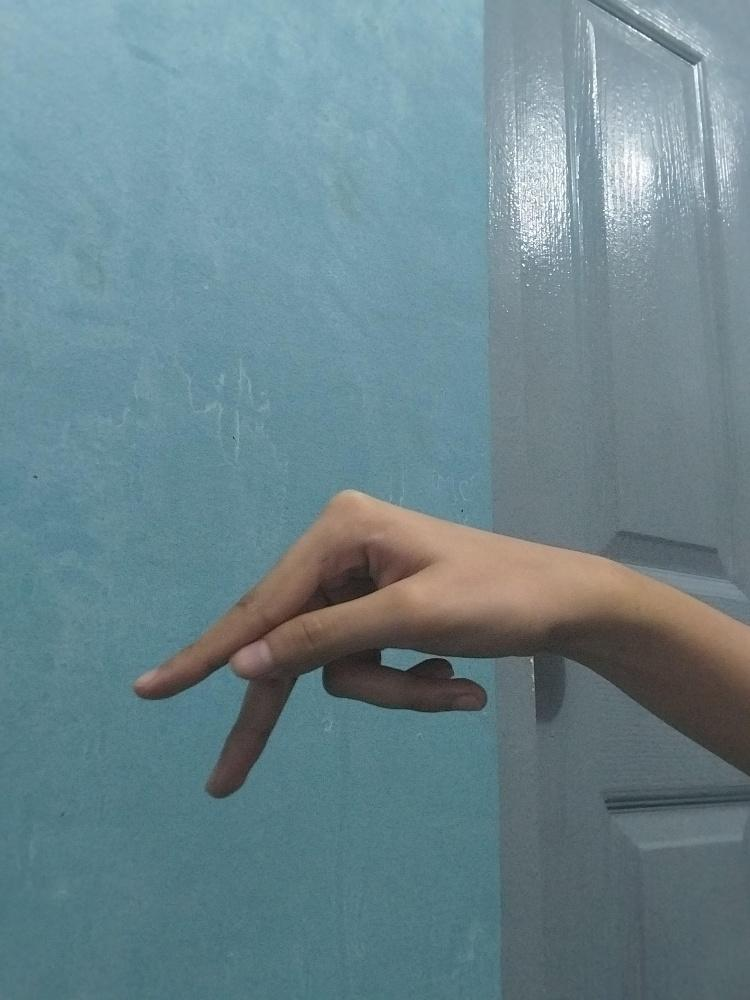p: (136, 485, 559, 802)
